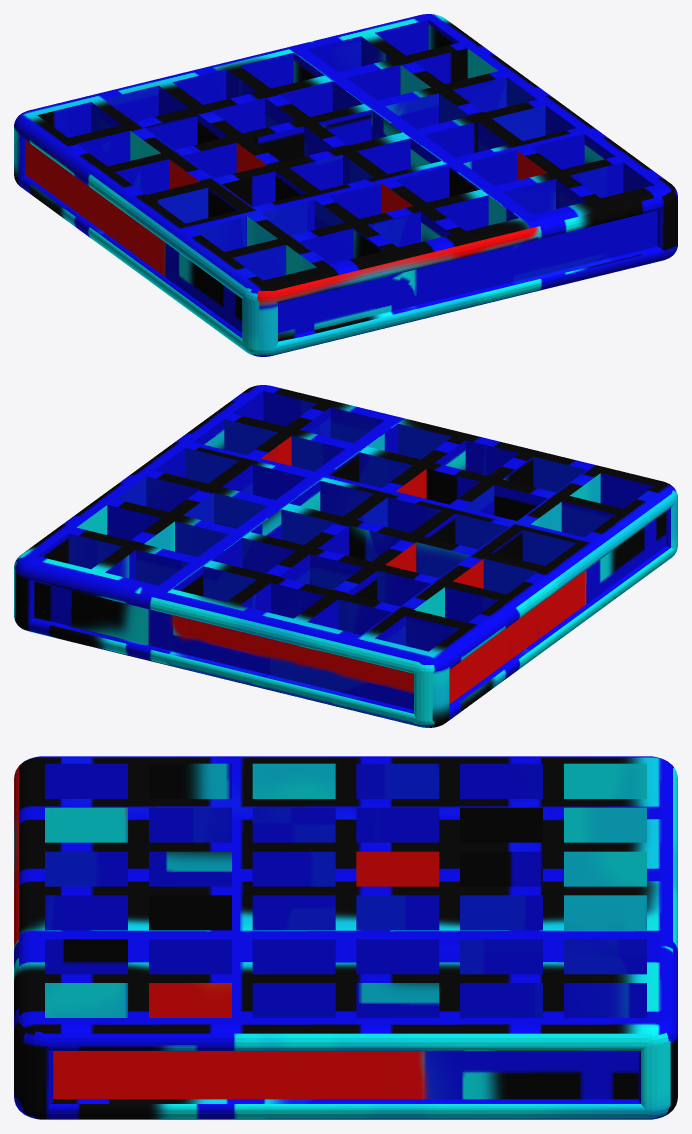
The model's file is 6x6 Bomb Case.fbx.
3 renders of one model, top to bottom at view 1: azimuth 30°, elevation 25°; view 2: azimuth 150°, elevation 25°; view 3: azimuth 270°, elevation 25°, orthographic. The views are drawn at different scales.
Parts seen in each view (by area): view 1: MeshBody1.002; view 2: MeshBody1.002; view 3: MeshBody1.002.
Part boxes in pixels (x1=…): MeshBody1.002: x1=14, y1=14, x2=677, y2=356; MeshBody1.002: x1=14, y1=385, x2=677, y2=727; MeshBody1.002: x1=14, y1=756, x2=677, y2=1119.
Bounding box in the file's own units: 160 × 25 × 160.
